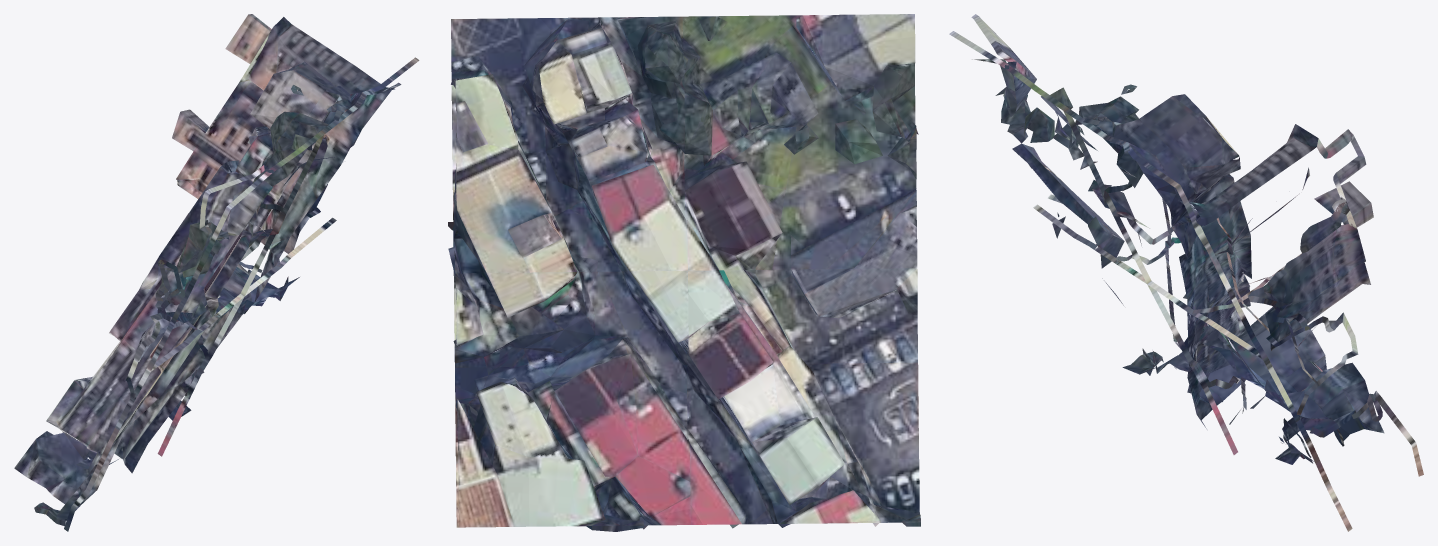
3 renders of one model, left to right at view 1: azimuth 30°, elevation 25°; view 2: azimuth 150°, elevation 25°; view 3: azimuth 270°, elevation 25°, orthographic. The views are drawn at different scales.
Bounding box in the file's own units: 79.29 × 73.67 × 76.34.
1 material, 1 textured.
